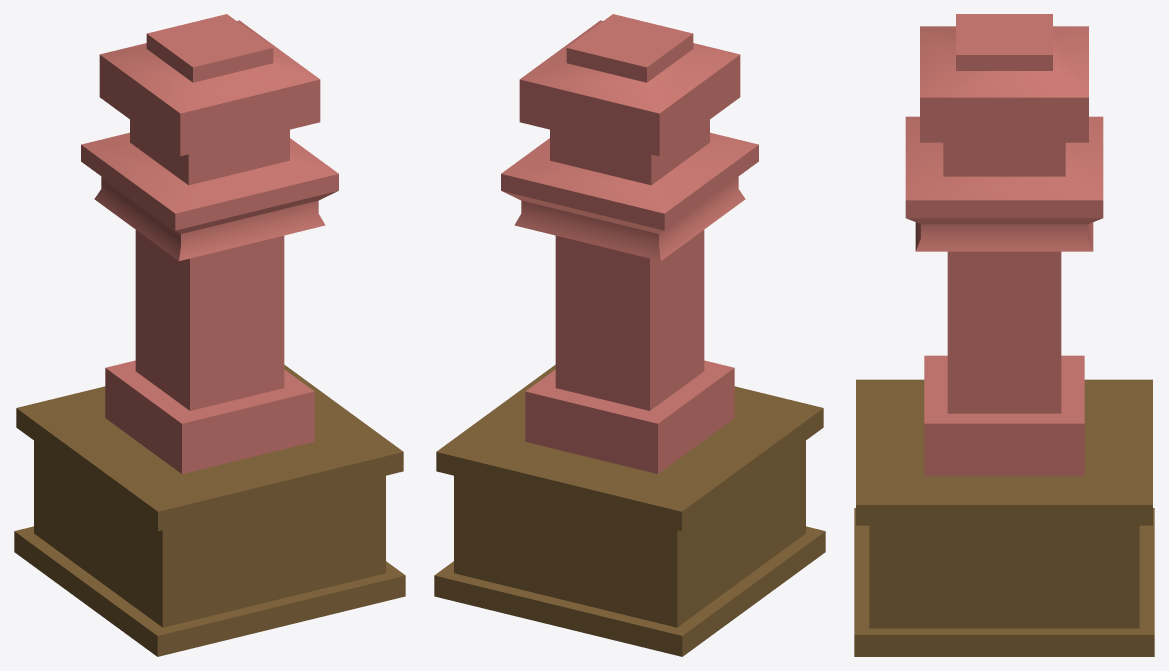
The model's file is rei.fbx.
3 renders of one model, left to right at view 1: azimuth 30°, elevation 25°; view 2: azimuth 150°, elevation 25°; view 3: azimuth 270°, elevation 25°, orthographic. The views are drawn at different scales.
Visible parts, largest first — view 1: Plane; view 2: Plane; view 3: Plane.
Boxes of the visible parts, x1,y1,x2,y2 form: Plane: (14,14,405,656); Plane: (434,14,825,656); Plane: (854,14,1154,656).
Size of the model in its own units: 400 by 822 by 400.
